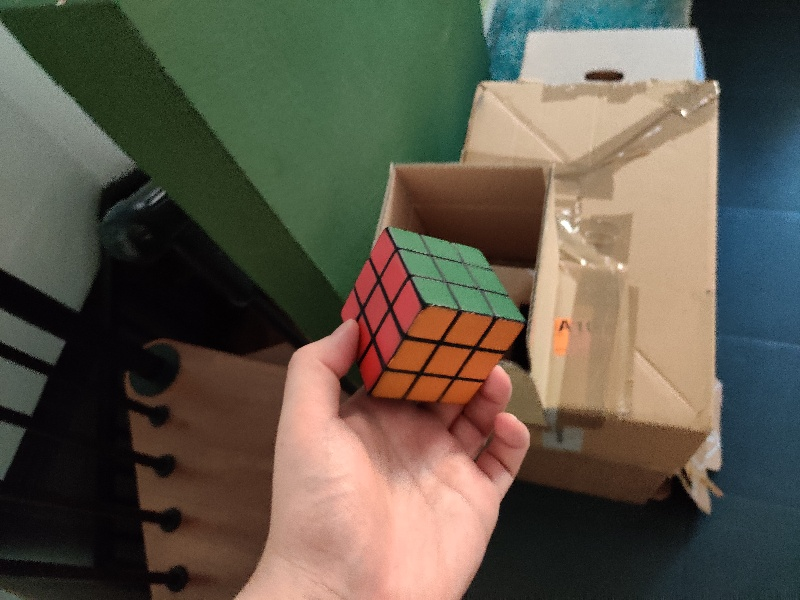rubik: (338, 227, 526, 406)
